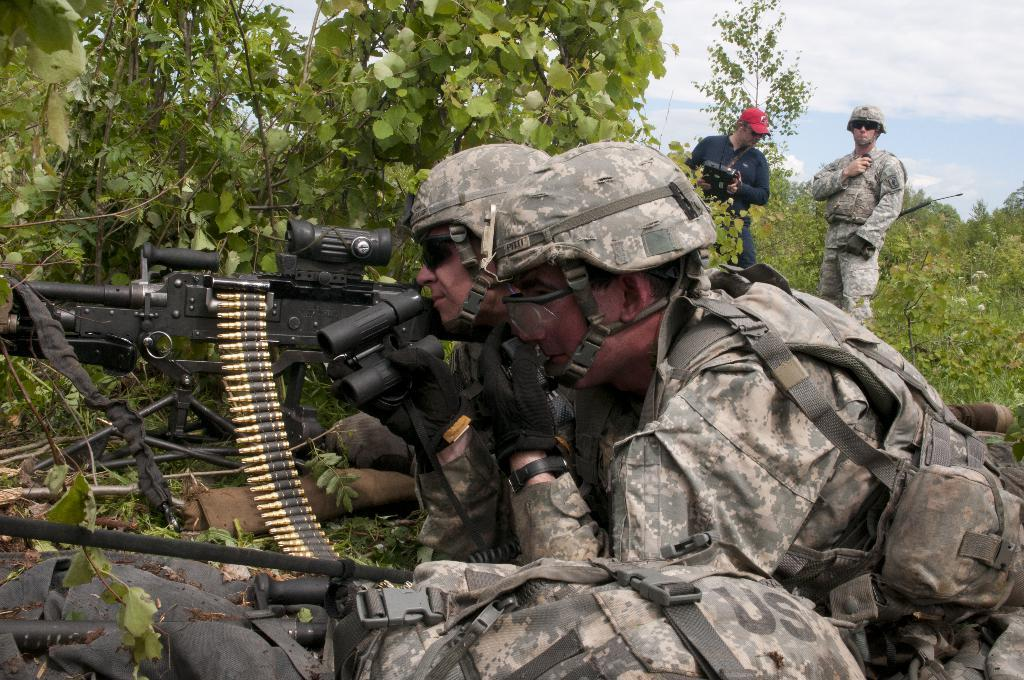Rifle: (1, 211, 497, 547)
